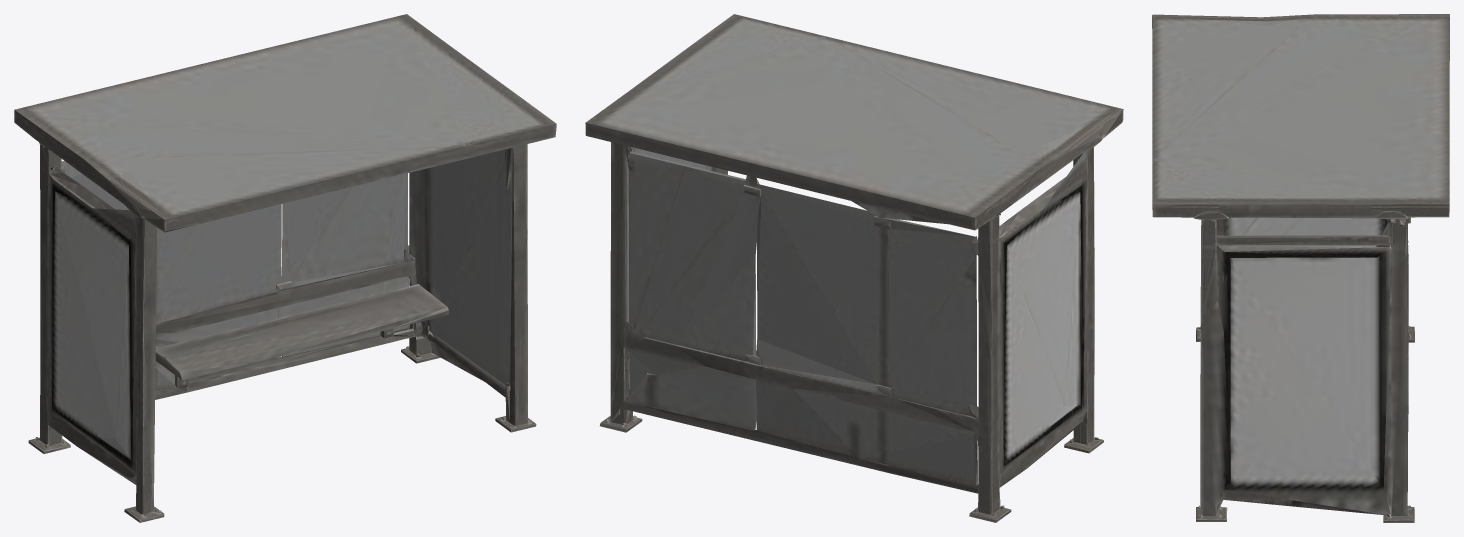
Rendered from prop-shelter.glb.
3 renders of one model, left to right at view 1: azimuth 30°, elevation 25°; view 2: azimuth 150°, elevation 25°; view 3: azimuth 270°, elevation 25°, orthographic.
Visible parts, largest first — view 1: output_unwrapped; view 2: output_unwrapped; view 3: output_unwrapped.
Boxes of the visible parts, x1,y1,x2,y2 form: output_unwrapped: [14, 14, 556, 522]; output_unwrapped: [585, 14, 1123, 522]; output_unwrapped: [1152, 14, 1449, 522].
Bounding box in the file's own units: 1.9 × 1.45 × 1.24.
Materials: 1 (1 with a texture image).
